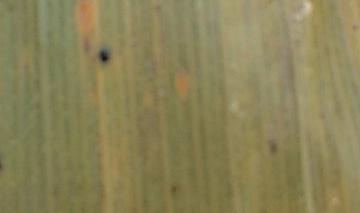tarspot: (97, 48, 111, 63), (81, 34, 91, 55), (267, 139, 278, 155), (294, 2, 307, 13), (153, 2, 164, 13), (350, 22, 360, 34), (169, 183, 178, 195), (1, 159, 6, 171)
